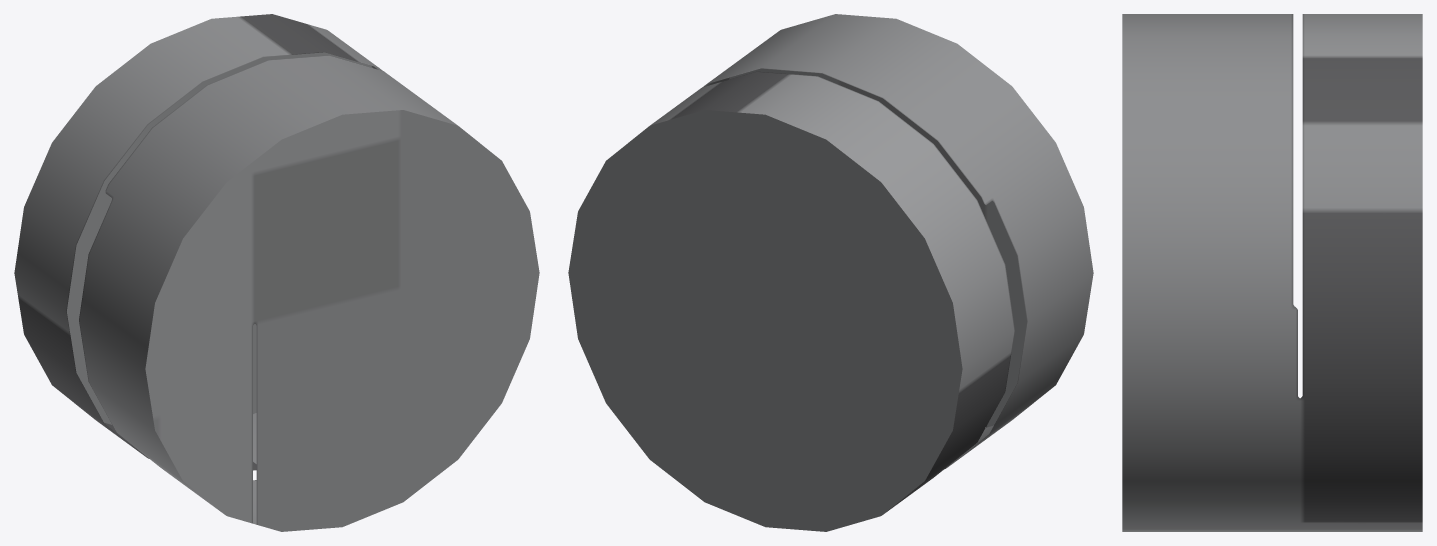
3 views of the same model, side by side, from view 1: azimuth 30°, elevation 25°; view 2: azimuth 150°, elevation 25°; view 3: azimuth 270°, elevation 25° (orthographic). The views are drawn at different scales.
Bounding box in the file's own units: 0.33 × 0.33 × 0.19.
